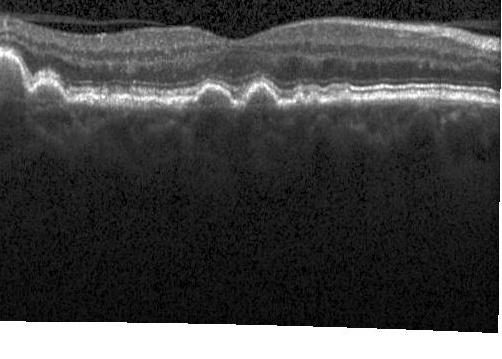retinal_drusen: (1, 55, 24, 99), (197, 87, 231, 108), (32, 82, 64, 102), (247, 87, 276, 106), (338, 92, 350, 103), (308, 94, 317, 105), (295, 94, 302, 106)
